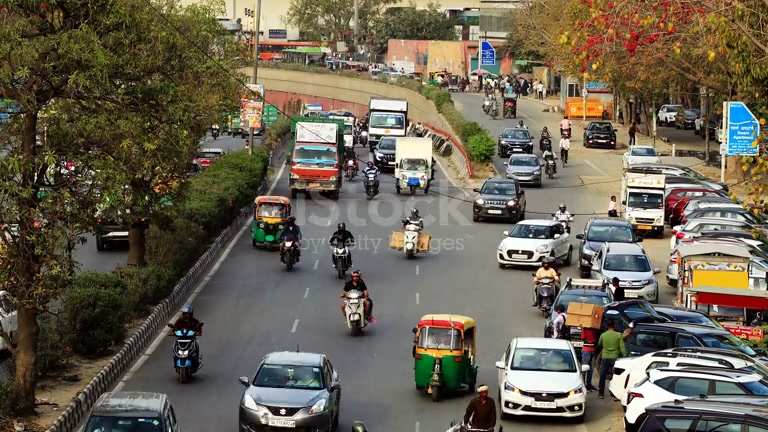bus: (673, 237, 768, 325), (251, 195, 294, 249), (239, 83, 265, 136)
car: (615, 361, 767, 428), (237, 351, 343, 430), (494, 336, 589, 422), (411, 313, 479, 400), (590, 241, 660, 303), (79, 391, 181, 432), (496, 218, 574, 270), (632, 400, 767, 430), (577, 217, 641, 277), (472, 177, 527, 222), (600, 298, 665, 332), (505, 153, 543, 188), (498, 127, 533, 158), (374, 135, 402, 173), (583, 121, 617, 149), (622, 145, 660, 170)
motorcycle: (171, 335, 203, 383), (341, 291, 373, 336), (330, 243, 353, 279), (279, 238, 301, 272), (363, 172, 381, 199)
pedestrian: (592, 318, 627, 398), (170, 305, 204, 360), (340, 269, 373, 321), (462, 383, 497, 431), (533, 257, 561, 306), (329, 221, 355, 262), (279, 219, 302, 263), (329, 221, 355, 248), (608, 277, 627, 302), (607, 194, 620, 219)
truck: (411, 313, 479, 400), (289, 117, 344, 197), (394, 135, 435, 195), (251, 195, 294, 249), (367, 97, 409, 149)
